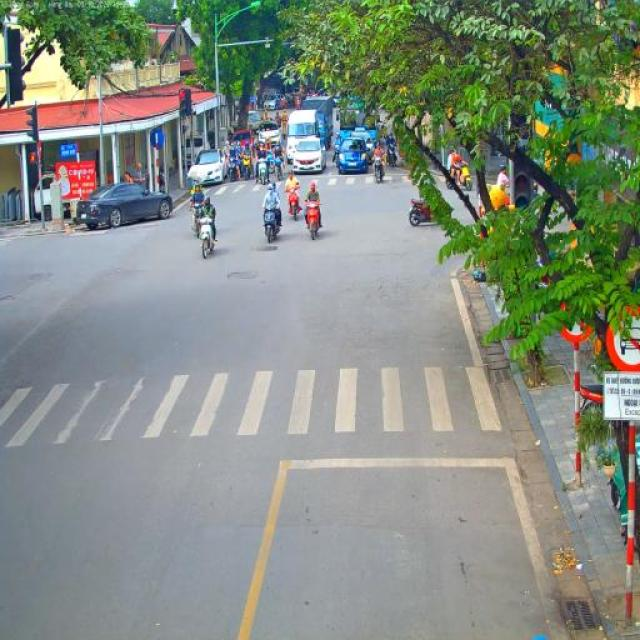car: (76, 182, 173, 229), (291, 135, 327, 177), (188, 148, 224, 188), (336, 137, 369, 174), (351, 127, 375, 157), (259, 121, 281, 149), (262, 95, 286, 111), (233, 130, 252, 148)
motorcycle: (408, 198, 440, 226), (196, 216, 215, 259), (446, 160, 473, 190), (303, 198, 321, 241), (580, 383, 604, 413), (262, 205, 279, 244), (285, 187, 300, 221), (190, 202, 204, 238), (372, 154, 388, 184), (239, 154, 255, 180), (270, 156, 284, 182), (330, 142, 341, 168), (385, 144, 397, 167), (258, 162, 268, 188), (224, 153, 234, 177), (228, 160, 238, 182), (276, 137, 286, 158)
truck: (286, 96, 334, 163), (331, 106, 389, 146), (248, 110, 264, 140)
